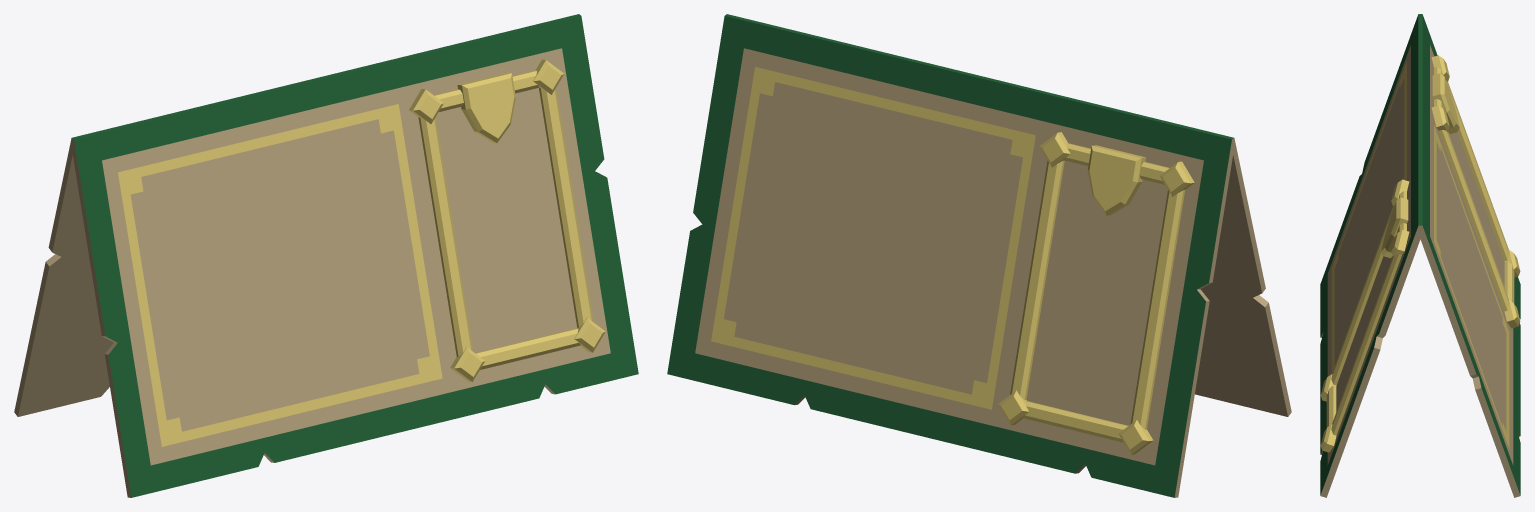
Rendered from initiative-tent-card-2fe4ff.glb.
3 renders of one model, left to right at view 1: azimuth 30°, elevation 25°; view 2: azimuth 150°, elevation 25°; view 3: azimuth 270°, elevation 25°, orthographic. The views are drawn at different scales.
Visible parts, largest first — view 1: card, card-gold; view 2: card, card-gold; view 3: card, card-gold.
Boxes of the visible parts, <box> form: card: <box>14,14,638,497</box>; card-gold: <box>118,59,605,446</box>; card: <box>667,14,1291,497</box>; card-gold: <box>711,67,1194,454</box>; card: <box>1320,14,1520,497</box>; card-gold: <box>1320,55,1520,452</box>.
Bounding box in the file's own units: 0.075 × 0.045 × 0.03.
